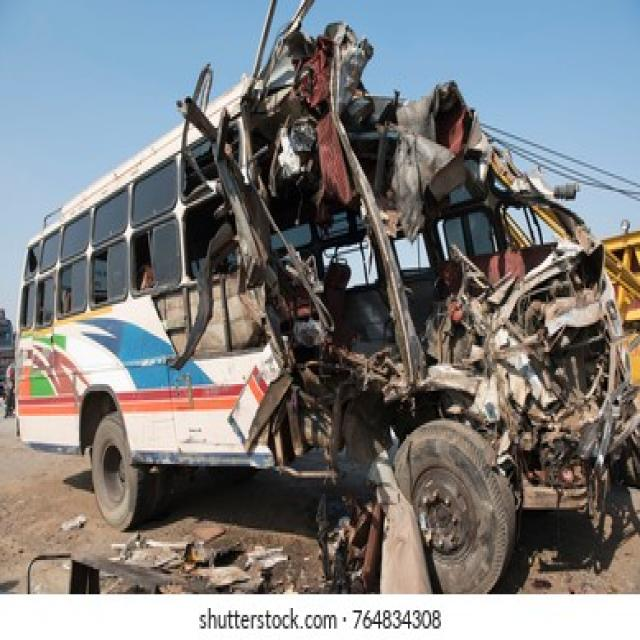accident: (14, 0, 640, 593)
